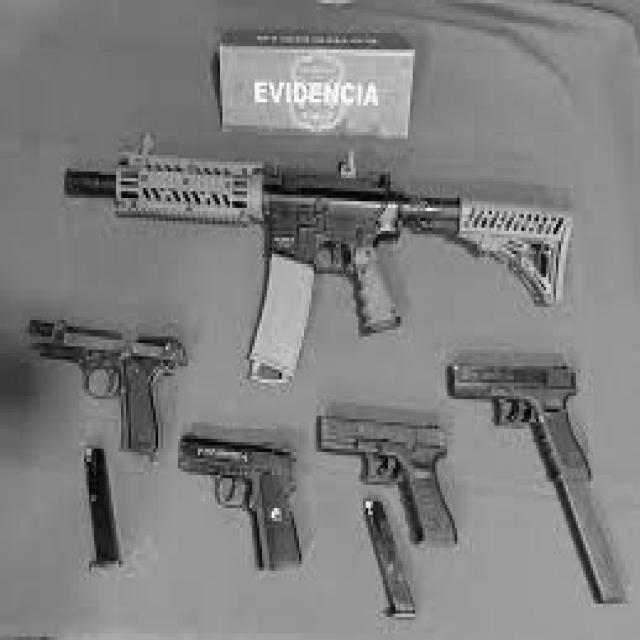handgun: (32, 309, 185, 453), (312, 412, 458, 546), (178, 429, 311, 572), (450, 359, 590, 482)
rifle: (65, 138, 572, 379)
